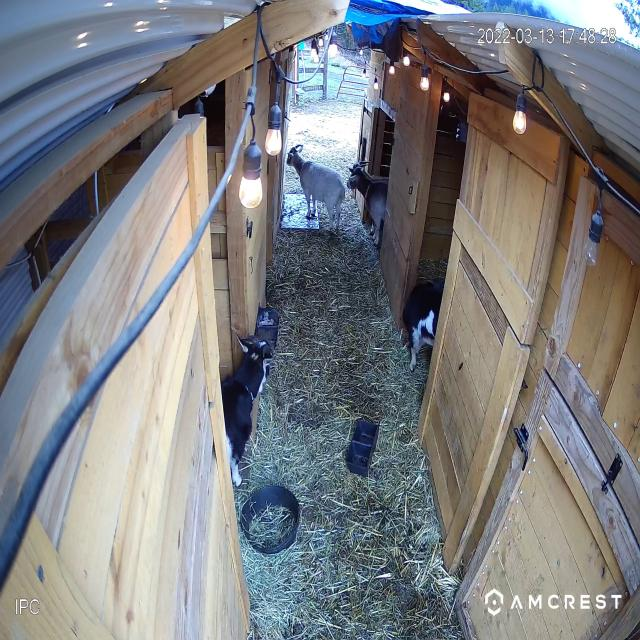goat: (0, 38, 270, 639), (430, 63, 639, 615)
